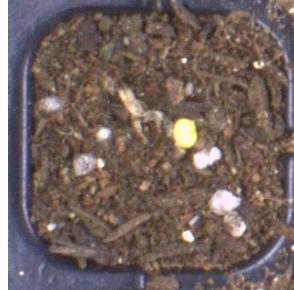chilli seed: (173, 117, 197, 148)
